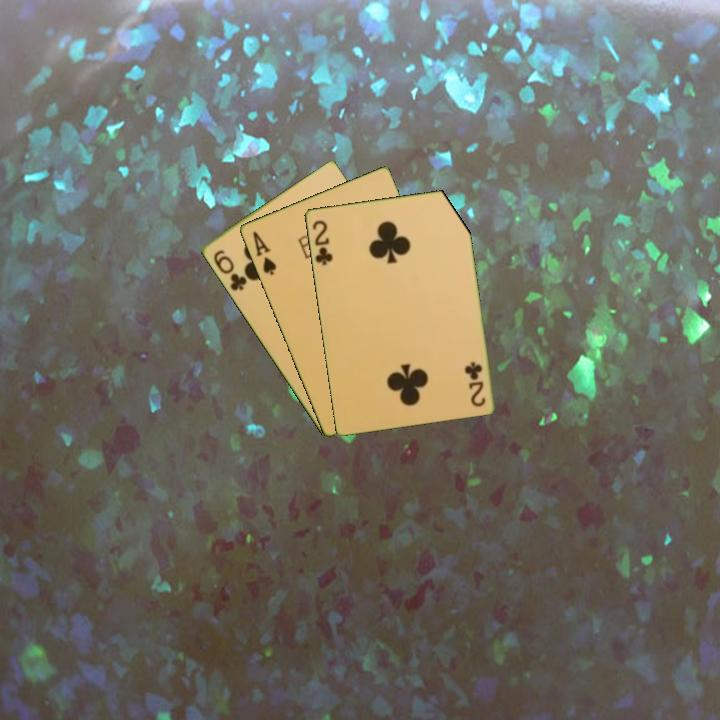2c: (308, 216, 335, 268), (463, 358, 488, 409)
6c: (209, 246, 250, 294)
As: (249, 227, 279, 278)
